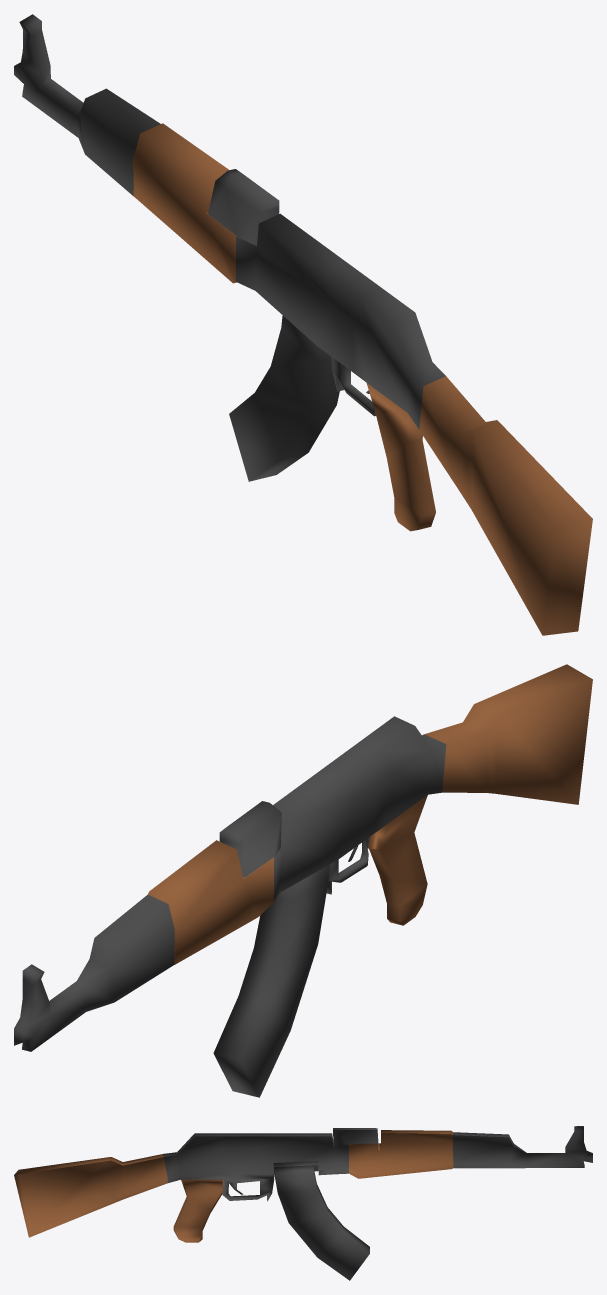
3 views of the same model, one above another, from view 1: azimuth 30°, elevation 25°; view 2: azimuth 150°, elevation 25°; view 3: azimuth 270°, elevation 25° (orthographic). The views are drawn at different scales.
Parts seen in each view (by area): view 1: Gun; view 2: Gun; view 3: Gun.
Part boxes in pixels (box(x1,y1,x2,y2)): Gun: box(14, 14, 592, 635); Gun: box(14, 664, 592, 1097); Gun: box(14, 1126, 592, 1280).
Size of what is drawn, in the model's own units: 0.1051 by 0.6574 by 2.29.
